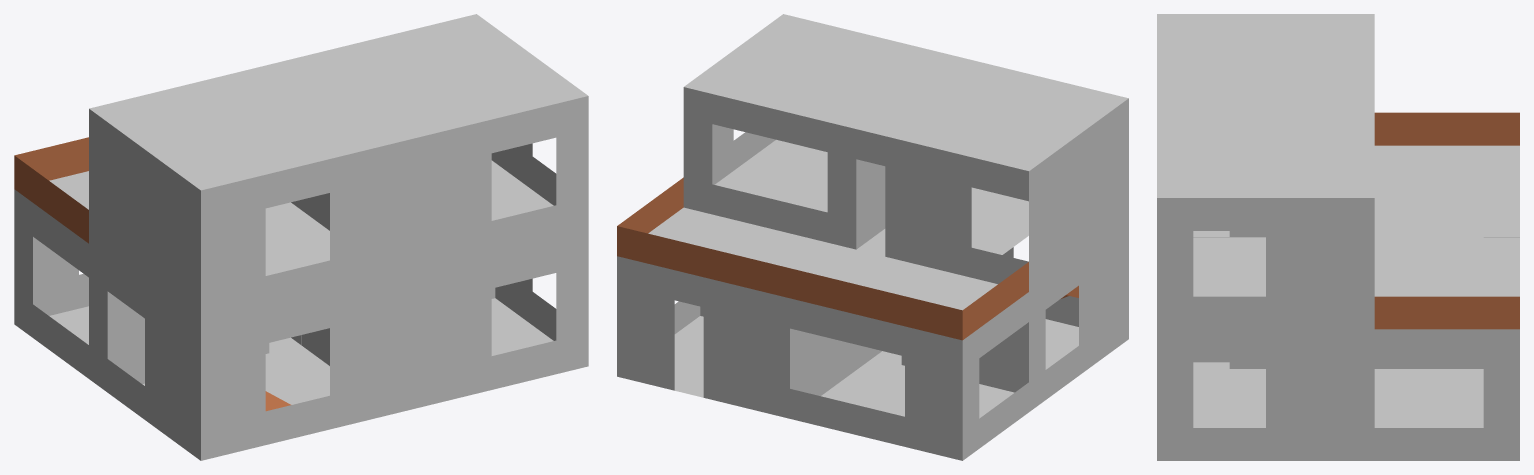
The model's file is Jackhouse.dae.
The picture shows the model from 3 angles, left to right: view 1: azimuth 30°, elevation 25°; view 2: azimuth 150°, elevation 25°; view 3: azimuth 270°, elevation 25°; orthographic projection. The views are drawn at different scales.
Parts seen in each view (by area): view 1: Plane; view 2: Plane; view 3: Plane.
Part boxes in pixels (x1,y1,x2,y2): Plane: [14, 14, 588, 460]; Plane: [617, 14, 1128, 460]; Plane: [1157, 14, 1519, 460].
Bounding box in the file's own units: 12 × 10 × 8.
